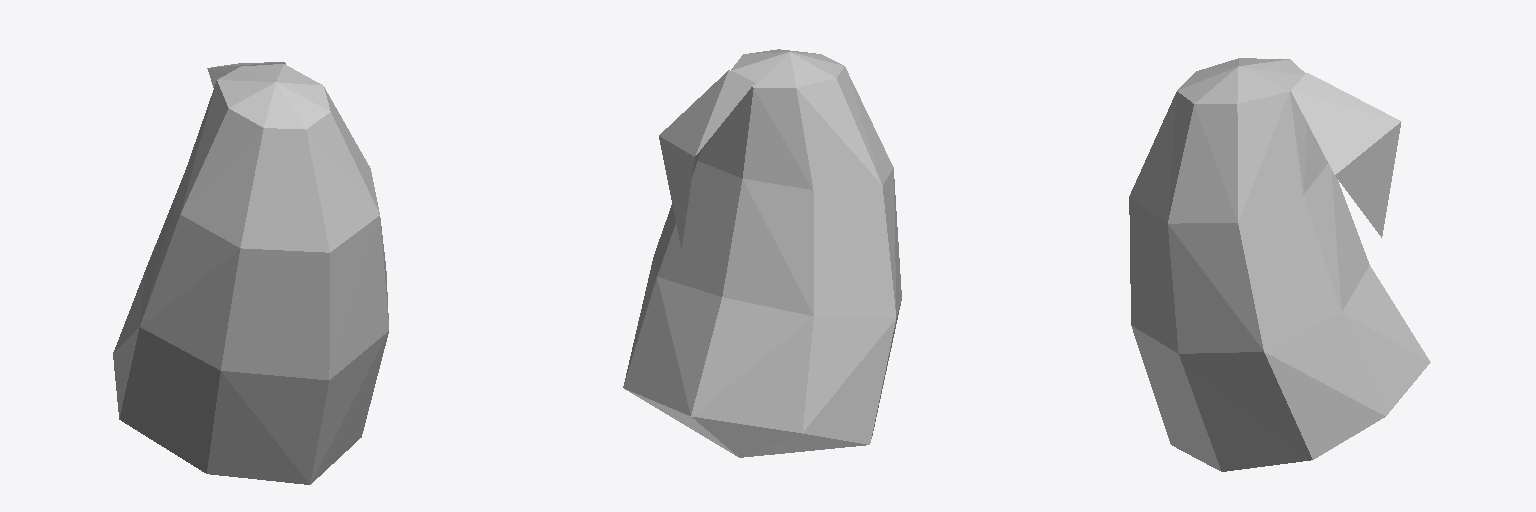
Rendered from raymanTorso.obj.
3 views of the same model, side by side, from view 1: azimuth 30°, elevation 25°; view 2: azimuth 150°, elevation 25°; view 3: azimuth 270°, elevation 25° (orthographic).
Visible parts, largest first — view 1: R2_body_rayman2; view 2: R2_body_rayman2; view 3: R2_body_rayman2.
Boxes of the visible parts, x1=… form: R2_body_rayman2: x1=113, y1=62, x2=388, y2=484; R2_body_rayman2: x1=623, y1=49, x2=901, y2=457; R2_body_rayman2: x1=1129, y1=58, x2=1430, y2=471.
Size of the model in its own units: 3.1 by 4.58 by 3.31.